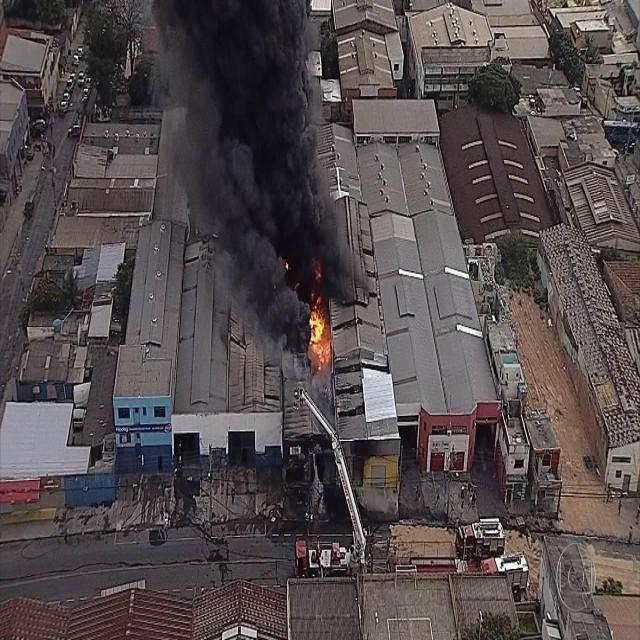Fire: (299, 289, 335, 373)
